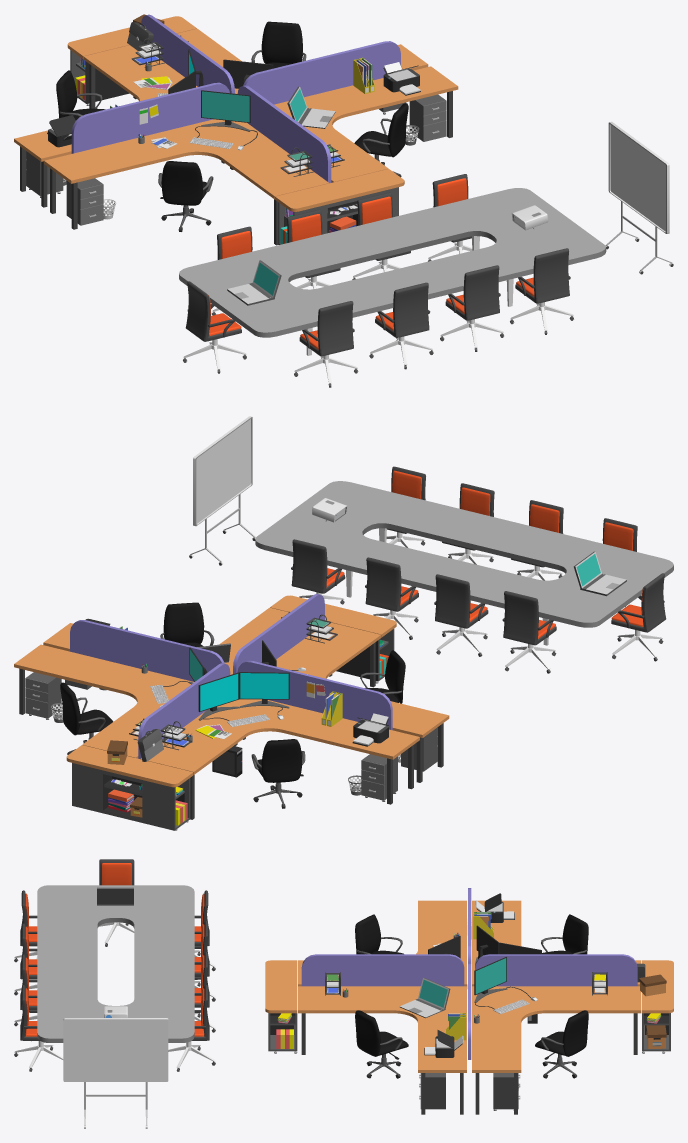
The model's file is modern_office_interior.glb.
The picture shows the model from 3 angles, top to bottom: view 1: azimuth 30°, elevation 25°; view 2: azimuth 150°, elevation 25°; view 3: azimuth 270°, elevation 25°; orthographic projection. The views are drawn at different scales.
Parts seen in each view (by area): view 1: Base, meet_Desk, whiteboard, Cube.013, Cube.014, Cube.015, Cube.016, Cube.011, chair.001, chair.002, screen.002, chair (+14 smaller); view 2: Base, meet_Desk, whiteboard, Cube.009, Cube.008, Cube.010, Cube.011, Cube.012, chair.003, chair, screen.001, chair.002 (+10 smaller); view 3: Base, meet_Desk, whiteboard, chair.002, chair, Cube.011, Cube.004, chair.001, chair.003, screen.003, Cube.013, Cube.012 (+14 smaller).
Part boxes in pixels (x1=…): Base: x1=14, y1=14, x2=458, y2=245; meet_Desk: x1=179, y1=188, x2=606, y2=355; whiteboard: x1=605, y1=121, x2=673, y2=274; Cube.013: x1=510, y1=248, x2=573, y2=334; Cube.014: x1=440, y1=265, x2=503, y2=351; Cube.015: x1=369, y1=282, x2=433, y2=369; Cube.016: x1=294, y1=301, x2=358, y2=387; Cube.011: x1=183, y1=281, x2=246, y2=373; chair.001: x1=158, y1=161, x2=213, y2=231; chair.002: x1=251, y1=21, x2=306, y2=68; screen.002: x1=201, y1=90, x2=250, y2=131; chair: x1=354, y1=103, x2=408, y2=177; Base: x1=14, y1=594, x2=449, y2=830; meet_Desk: x1=255, y1=481, x2=673, y2=645; whiteboard: x1=189, y1=416, x2=255, y2=565; Cube.009: x1=434, y1=574, x2=488, y2=656; Cube.008: x1=502, y1=591, x2=556, y2=673; Cube.010: x1=365, y1=557, x2=418, y2=639; Cube.011: x1=611, y1=573, x2=666, y2=661; Cube.012: x1=291, y1=539, x2=345, y2=604; chair.003: x1=251, y1=739, x2=305, y2=808; chair: x1=160, y1=602, x2=214, y2=646; screen.001: x1=239, y1=672, x2=289, y2=708; chair.002: x1=60, y1=682, x2=113, y2=754; Base: x1=265, y1=888, x2=673, y2=1114; meet_Desk: x1=37, y1=885, x2=194, y2=1042; whiteboard: x1=63, y1=1018, x2=168, y2=1128; chair.002: x1=535, y1=1010, x2=588, y2=1078; chair: x1=355, y1=1010, x2=408, y2=1078; Cube.011: x1=99, y1=859, x2=134, y2=946; Cube.004: x1=399, y1=977, x2=450, y2=1018; chair.001: x1=355, y1=914, x2=403, y2=954; chair.003: x1=541, y1=914, x2=588, y2=954; screen.003: x1=474, y1=957, x2=507, y2=1002; Cube.013: x1=14, y1=985, x2=63, y2=1071; Cube.012: x1=168, y1=985, x2=215, y2=1071.
Size of the model in its own units: 9.31 by 2.19 by 12.69.
Materials: 3 (2 with a texture image).
